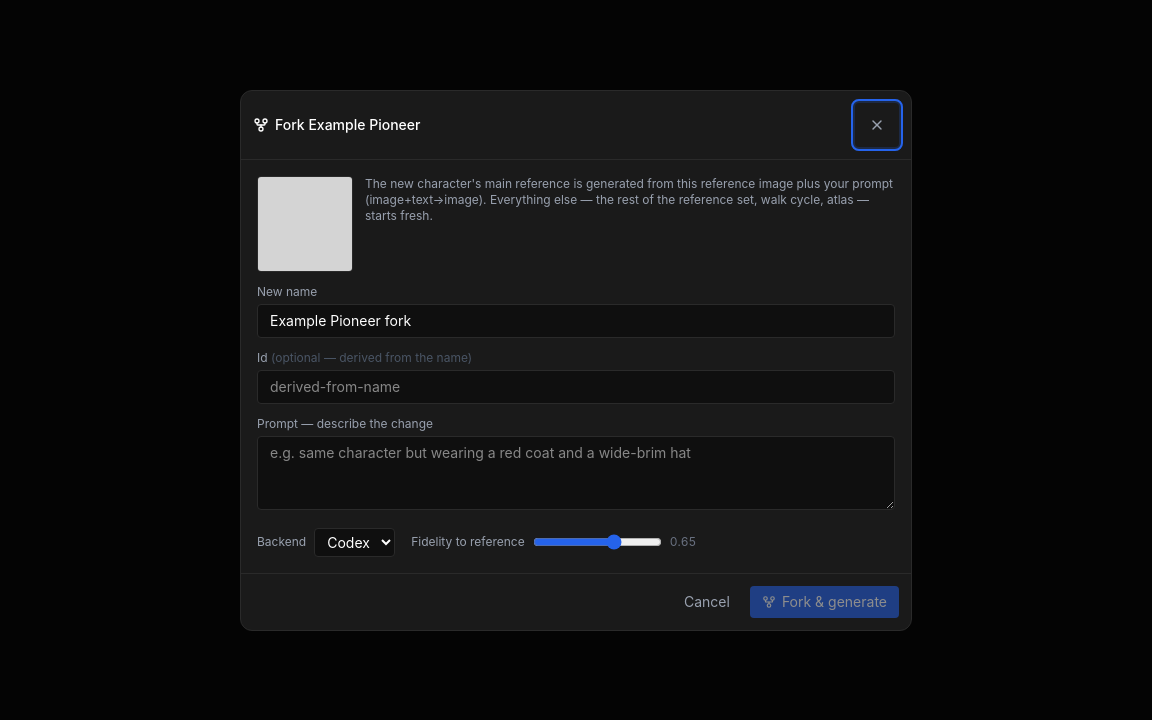
Test case: ForkSpriteModal submit gating › seeds the name from the source and stays disabled until a prompt is written
Check: the field labelled "New name" holds "Example Pioneer fork", box 257,304 -> 895,338
Check: the button "Fork & generate" is disabled, box 750,586 -> 899,618
Type "now with a red coat" into the text box labelled "Prompt — describe the change". click: (576, 472)
box: 257,436 -> 895,510
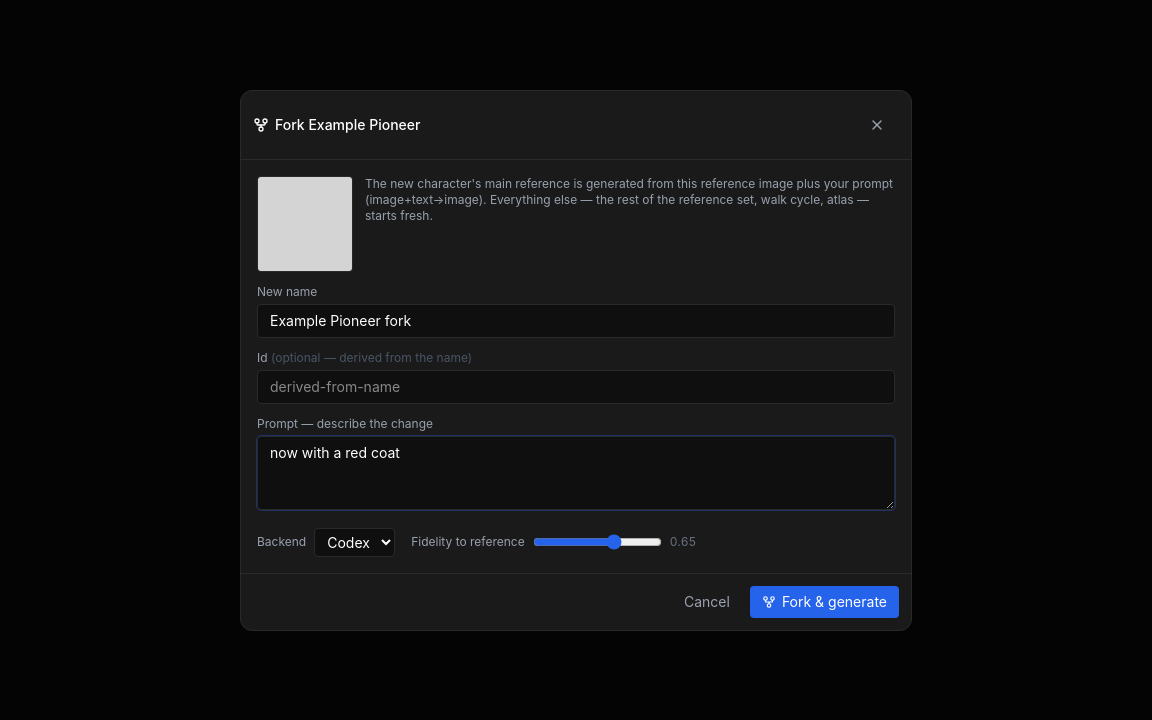
Check: the button "Fork & generate" is enabled, box 750,586 -> 899,618
